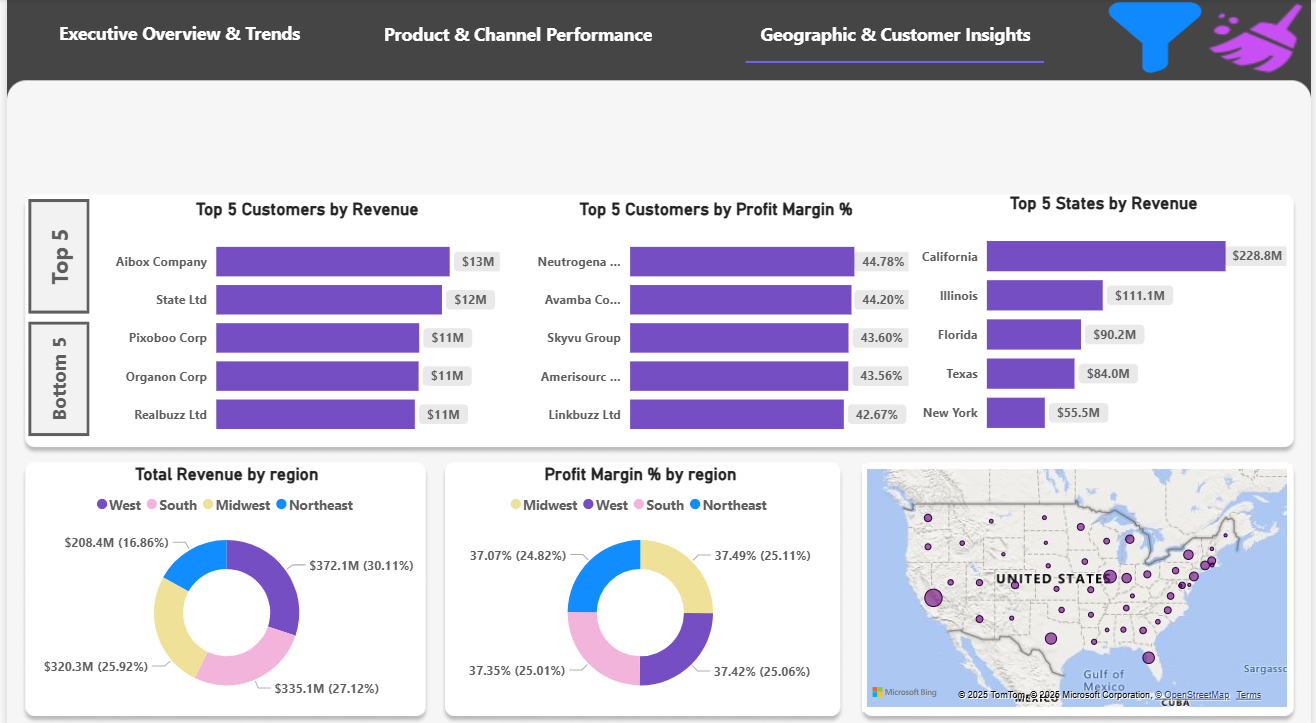

This screenshot's page, from the dashboard's own definition file:
{"tool":"powerbi","page":{"name":"Geographic & Customer Insights","canvas":[1280,720],"ordinal":2},"visuals":[{"type":"actionButton","title":"Executive Overview & Trends","box":[31.9,8.6,274.8,50.3],"z":0},{"type":"actionButton","title":"Executive Overview & Trends","box":[365,8.2,274.4,50.8],"z":1000},{"type":"actionButton","title":"Executive Overview & Trends","box":[730,8.2,284,50.8],"z":2000},{"type":"shape","box":[100.2,183.9,1160.9,259.3],"z":3000},{"type":"clusteredBarChart","title":"Top 5 Customers by Revenue","fields":{"Category":["Sales_data.customer names"],"Y":["Measures__.Total Revenue"]},"box":[100.2,196.2,388.3,247],"z":4000},{"type":"clusteredBarChart","title":"Top 5 Customers by Profit Margin %","fields":{"Category":["Sales_data.customer names"],"Y":["Measures__.Profit Margin %"]},"box":[502.2,196.2,388.3,247],"z":5000},{"type":"clusteredBarChart","title":"Top 5 States by Revenue","fields":{"Y":["Measures__.Total Revenue"],"Category":["Sales_data.state_name"]},"box":[891.9,190.7,369.1,252.5],"z":6000},{"type":"actionButton","box":[20.6,196.2,60.4,112.5],"z":7000},{"type":"actionButton","box":[20.6,317,60.4,112.5],"z":8000},{"type":"donutChart","fields":{"Y":["Measures__.Total Revenue"],"Category":["Sales_data.region"]},"box":[21.1,456.8,389.8,243.3],"z":12000},{"type":"donutChart","fields":{"Y":["Measures__.Profit Margin %"],"Category":["Sales_data.region"]},"box":[427,456.8,389.8,243.3],"z":13000},{"type":"map","fields":{"Category":["Sales_data.state"],"Size":["Measures__.Total Profit"]},"box":[839.1,456.8,422,243.3],"z":14000},{"type":"actionButton","box":[1077.3,0,99.4,74.8],"z":16000},{"type":"actionButton","box":[1176.7,0,103.1,74.8],"z":17001}]}

Visuals, with their boxes in screenshot pixels (x1, y1, x2, y2), scaled from the page's 1280x720 canvas onto the 1316x723 screenshot:
"Executive Overview & Trends" actionButton: <box>33,9,315,59</box>
"Executive Overview & Trends" actionButton: <box>375,8,657,59</box>
"Executive Overview & Trends" actionButton: <box>751,8,1043,59</box>
shape: <box>103,185,1297,445</box>
"Top 5 Customers by Revenue" clusteredBarChart: <box>103,197,502,445</box>
"Top 5 Customers by Profit Margin %" clusteredBarChart: <box>516,197,916,445</box>
"Top 5 States by Revenue" clusteredBarChart: <box>917,191,1296,445</box>
actionButton: <box>21,197,83,310</box>
actionButton: <box>21,318,83,431</box>
donutChart - Measures__.Total Revenue x Sales_data.region: <box>22,459,422,703</box>
donutChart - Measures__.Profit Margin % x Sales_data.region: <box>439,459,840,703</box>
map - Sales_data.state x Measures__.Total Profit: <box>863,459,1297,703</box>
actionButton: <box>1108,0,1210,75</box>
actionButton: <box>1210,0,1315,75</box>
